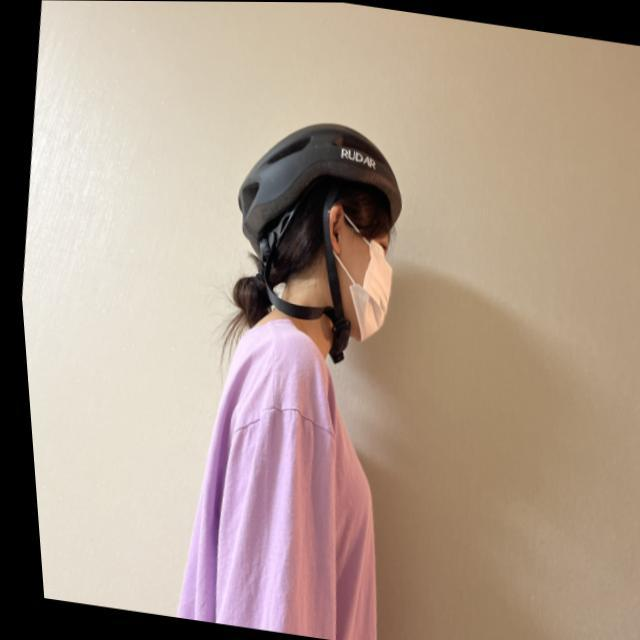Helmet: (216, 119, 406, 368)
